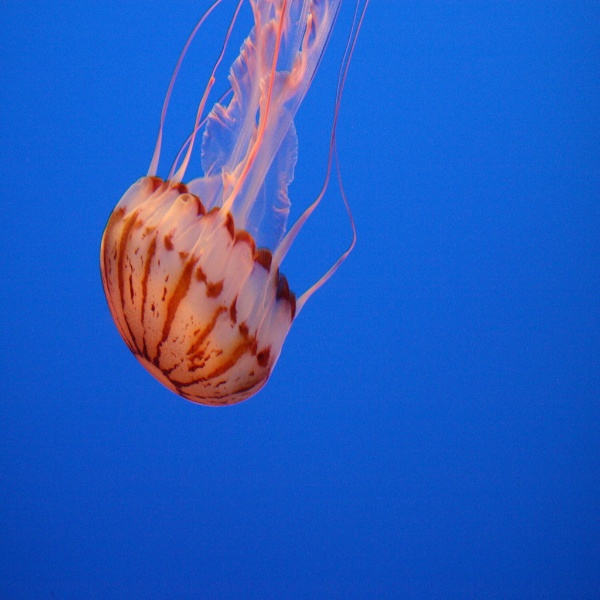Jellyfish: (98, 18, 381, 394)
